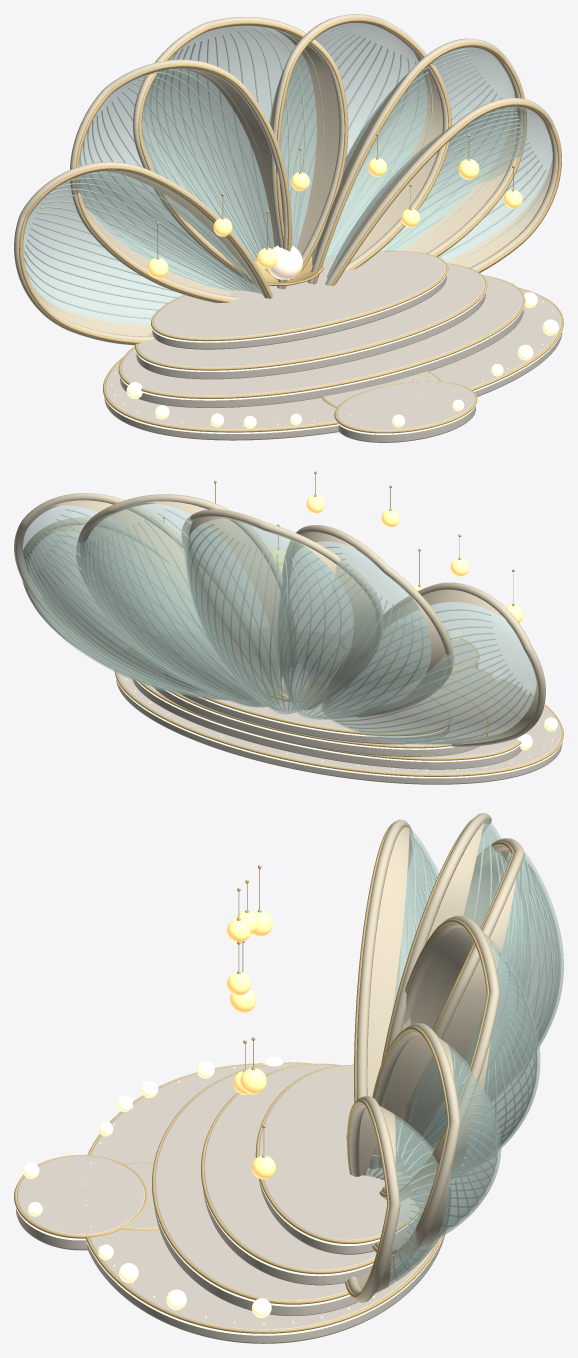
File: shell-concert.glb
3 views of the same model, one above another, from view 1: azimuth 30°, elevation 25°; view 2: azimuth 150°, elevation 25°; view 3: azimuth 270°, elevation 25° (orthographic). The views are drawn at different scales.
Visible parts, largest first — view 1: Shell_02_high_left_scooped_panel, Shell_03_crown_left_scooped_panel, Shell_01_outer_left_scooped_panel, Shell_04_high_right_scooped_panel, 04_Back_ensemble_deck, Shell_05_mid_right_scooped_panel, Shell_06_outer_right_scooped_panel, 02_Lower_ensemble_deck, 01_Lagoon_foundation, 03_Middle_ensemble_deck, 06_Foreground_solo_island, Shell_02_high_left_ivory_bolstered_rim (+23 smaller); view 2: Shell_04_high_right_scooped_panel, Shell_03_crown_left_scooped_panel, Shell_05_mid_right_scooped_panel, Shell_02_high_left_scooped_panel, Shell_01_outer_left_scooped_panel, 01_Lagoon_foundation, Shell_06_outer_right_scooped_panel, 04_Back_ensemble_deck, 02_Lower_ensemble_deck, 03_Middle_ensemble_deck, Shell_03_crown_left_ivory_bolstered_rim, Shell_05_mid_right_ivory_bolstered_rim (+18 smaller); view 3: 01_Lagoon_foundation, 04_Back_ensemble_deck, Shell_03_crown_left_scooped_panel, 02_Lower_ensemble_deck, Shell_04_high_right_scooped_panel, 03_Middle_ensemble_deck, Shell_05_mid_right_scooped_panel, 06_Foreground_solo_island, Shell_01_outer_left_scooped_panel, Shell_06_outer_right_scooped_panel, Shell_02_high_left_scooped_panel, Shell_04_high_right_ivory_bolstered_rim (+18 smaller).
Part boxes in pixels (x1,y1,x2,y2): Shell_02_high_left_scooped_panel: (79,68,278,295); Shell_03_crown_left_scooped_panel: (142,26,339,266); Shell_01_outer_left_scooped_panel: (23,171,262,336); Shell_04_high_right_scooped_panel: (269,23,442,264); 04_Back_ensemble_deck: (152,251,446,349); Shell_05_mid_right_scooped_panel: (311,47,517,265); Shell_06_outer_right_scooped_panel: (327,107,552,279); 02_Lower_ensemble_deck: (120,276,523,407); 01_Lagoon_foundation: (104,289,562,440); 03_Middle_ensemble_deck: (136,264,485,379); 06_Foreground_solo_island: (336,381,475,442); Shell_02_high_left_ivory_bolstered_rim: (70,59,291,302); Shell_04_high_right_scooped_panel: (79,501,289,707); Shell_03_crown_left_scooped_panel: (184,516,375,714); Shell_05_mid_right_scooped_panel: (17,500,267,700); Shell_02_high_left_scooped_panel: (277,532,446,719); Shell_01_outer_left_scooped_panel: (321,589,538,744); 01_Lagoon_foundation: (116,628,562,784); Shell_06_outer_right_scooped_panel: (25,525,202,694); 04_Back_ensemble_deck: (168,652,449,744); 02_Lower_ensemble_deck: (132,639,521,769); 03_Middle_ensemble_deck: (149,644,487,756); Shell_03_crown_left_ivory_bolstered_rim: (181,509,383,710); Shell_05_mid_right_ivory_bolstered_rim: (14,493,273,683); 01_Lagoon_foundation: (87,1064,445,1343); 04_Back_ensemble_deck: (258,1065,435,1254); Shell_03_crown_left_scooped_panel: (408,849,563,1144); 02_Lower_ensemble_deck: (154,1063,416,1315); Shell_04_high_right_scooped_panel: (399,927,540,1193); 03_Middle_ensemble_deck: (203,1064,392,1285); Shell_05_mid_right_scooped_panel: (378,1034,501,1249); 06_Foreground_solo_island: (16,1155,145,1250); Shell_01_outer_left_scooped_panel: (367,827,438,1096); Shell_06_outer_right_scooped_panel: (357,1106,451,1293); Shell_02_high_left_scooped_panel: (402,820,527,1030); Shell_04_high_right_ivory_bolstered_rim: (381,915,500,1201).
Size of the model in its own units: 18.96 by 9.22 by 13.24.
